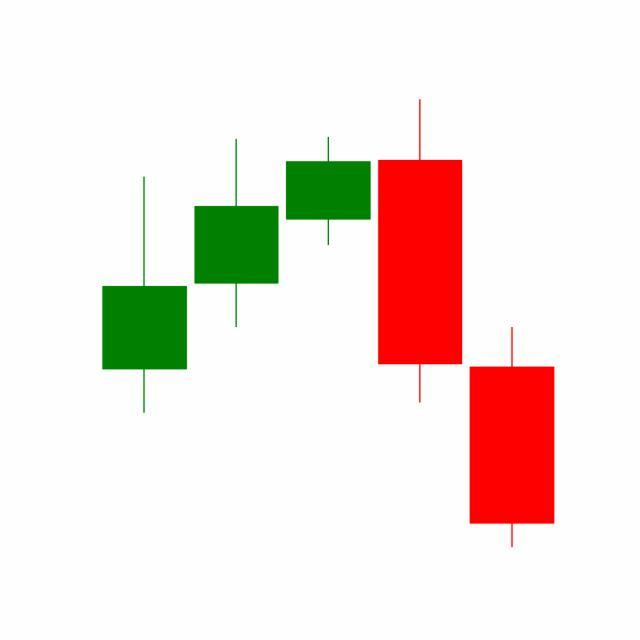Three Outside Up-Down: (280, 99, 555, 549)
